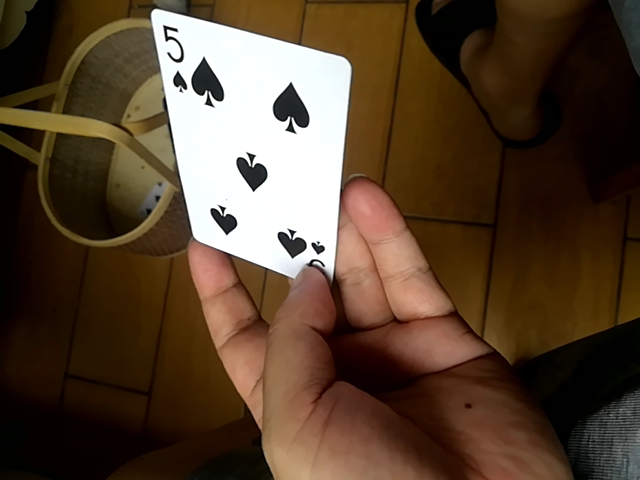ht 5: (149, 6, 355, 291)
